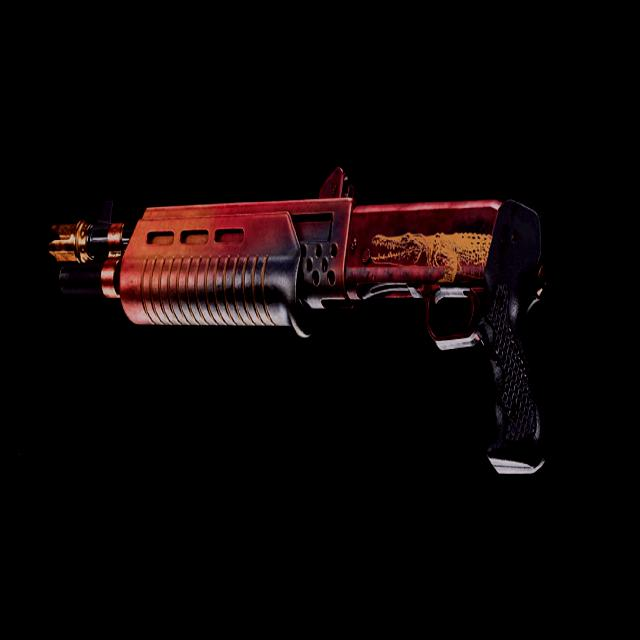long weapon: (34, 156, 567, 512)
